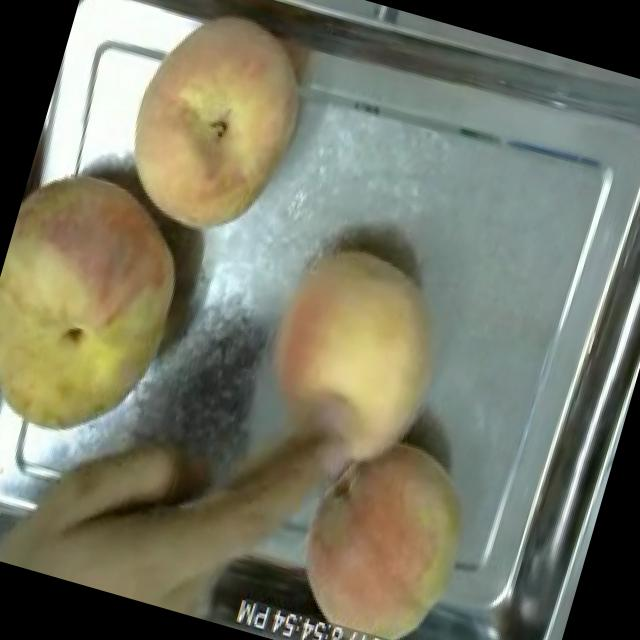Fruit: (0, 146, 229, 480), (0, 375, 291, 630), (227, 224, 474, 486), (95, 0, 336, 259), (264, 407, 499, 640)
